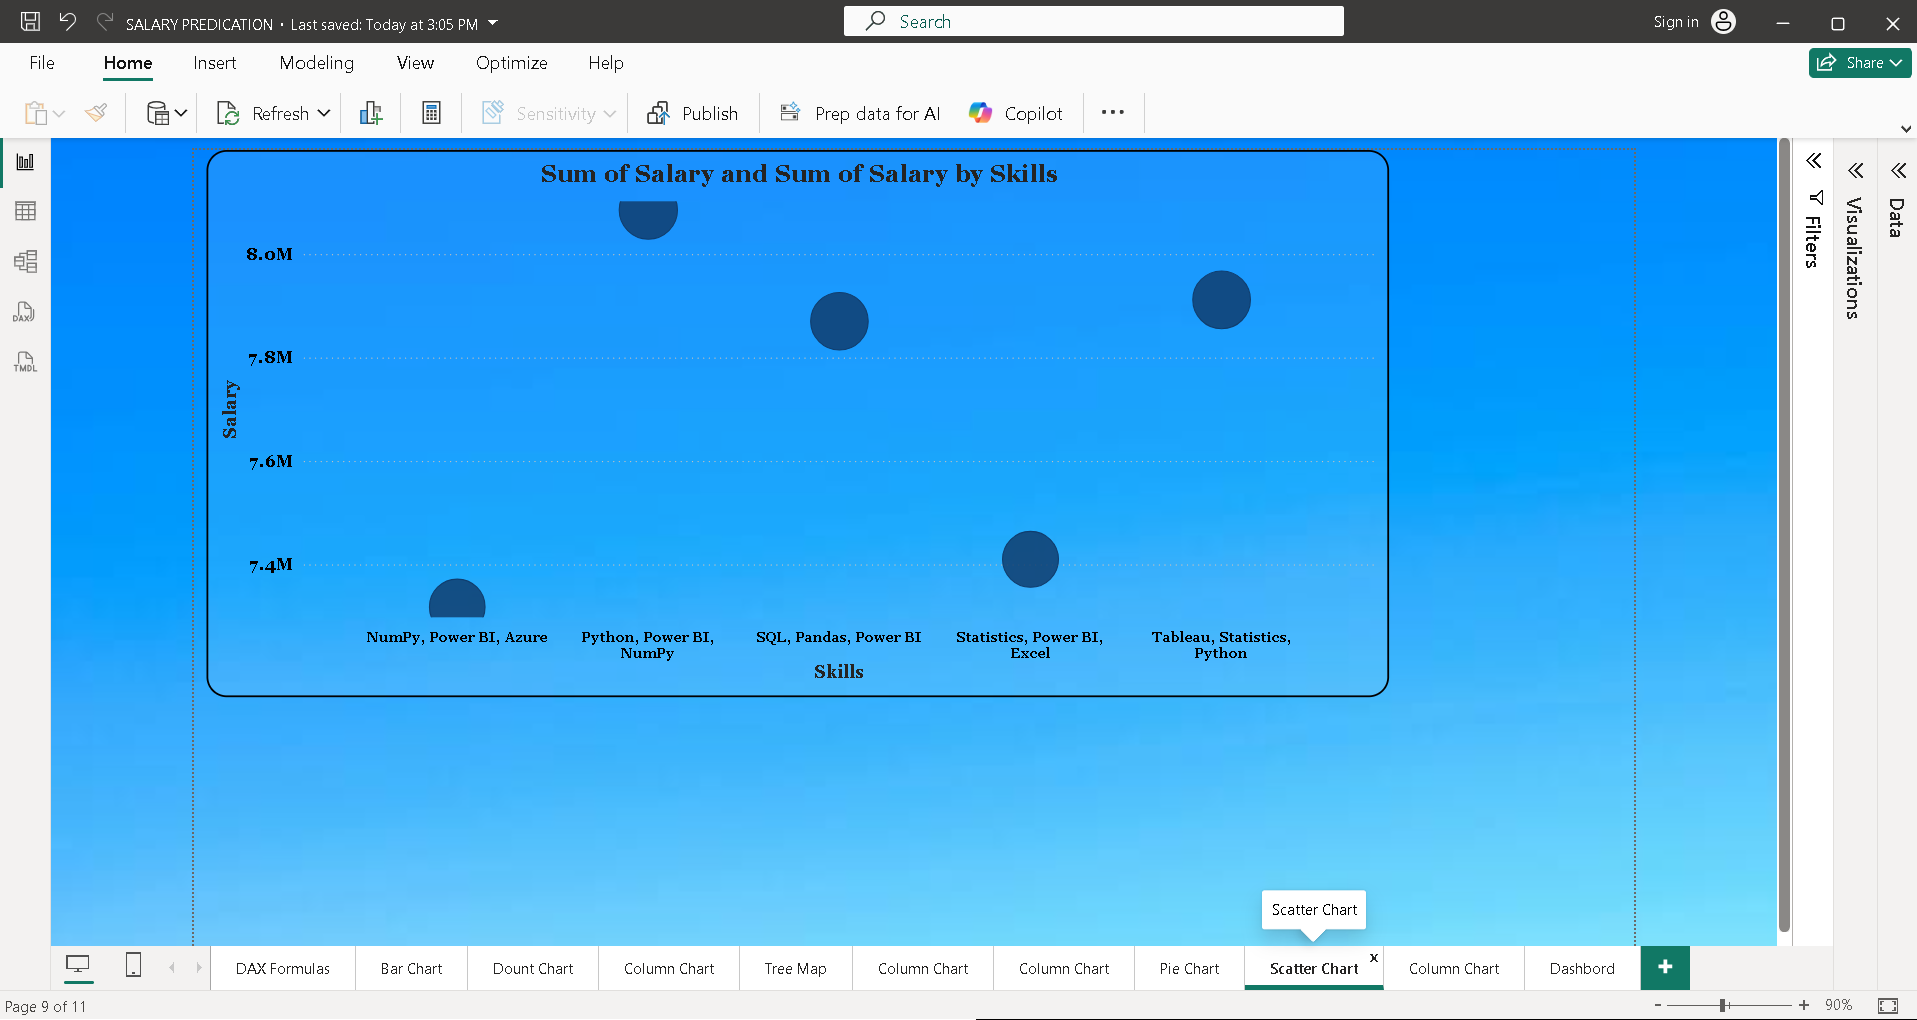

This screenshot's page, from the dashboard's own definition file:
{"tool":"powerbi","page":{"name":"Scatter Chart ","canvas":[1280,720],"ordinal":8},"visuals":[{"type":"scatterChart","fields":{"X":["clean_job_market_salary_fixed.Skills"],"Y":["Sum(clean_job_market_salary_fixed.Salary)"],"Size":["Sum(clean_job_market_salary_fixed.Salary)"]},"box":[10.7,0,1051.4,486.8],"z":0}]}

Visuals, with their boxes on the page's 1280x720 design canvas (x1, y1, x2, y2). These are canvas units, not pixel positions in the 1917x1020 screenshot, which may show the page scaled, cropped or inside an application window:
scatterChart - clean_job_market_salary_fixed.Skills x Sum(clean_job_market_salary_fixed.Salary): [11,0,1062,487]
